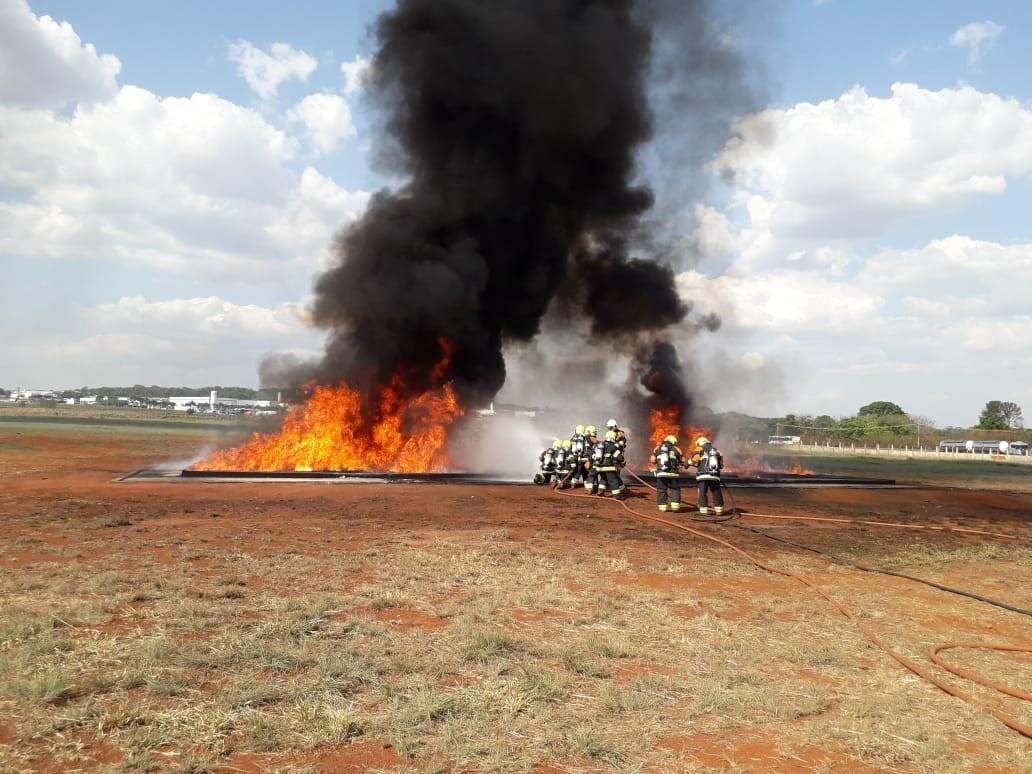Fire: (203, 372, 465, 480), (646, 410, 687, 440), (686, 428, 707, 456), (790, 464, 815, 478)
